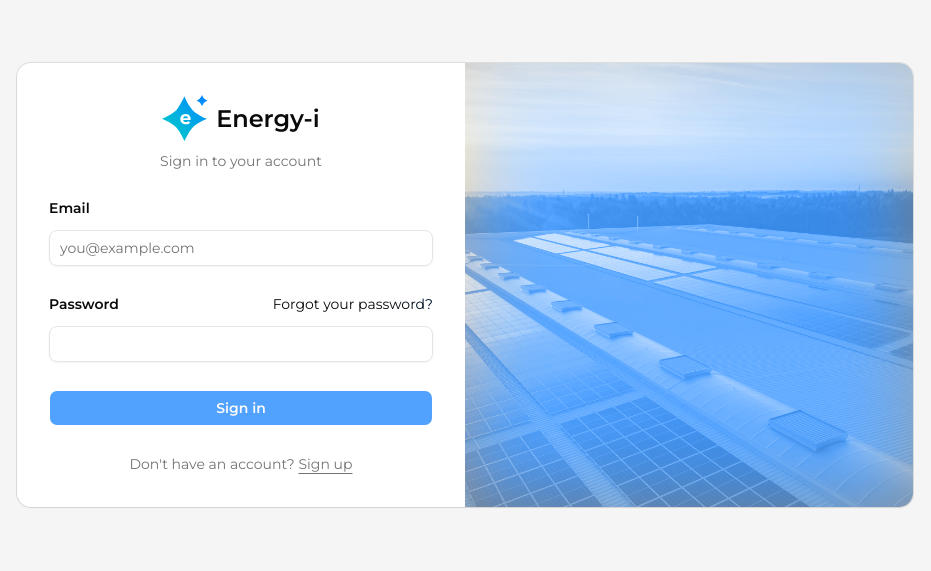
it: Sign In › shows an error with invalid credentials
Step 1. Type "wrong@example.com" into the field with id "email" → point(241, 248), box [49,230,433,266]
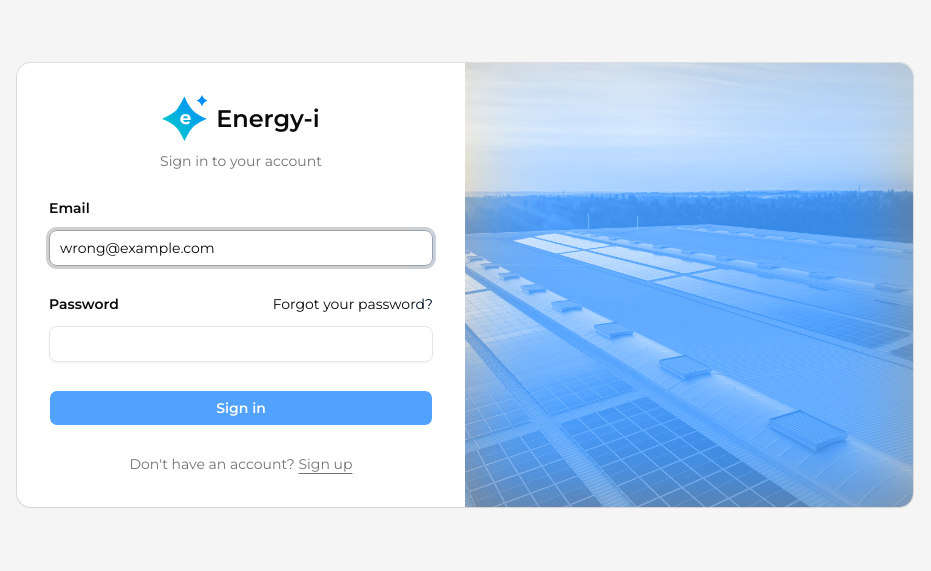
Step 2. Type "wrongpassword" into the password field labelled "Password" → point(241, 344), box [49,326,433,362]
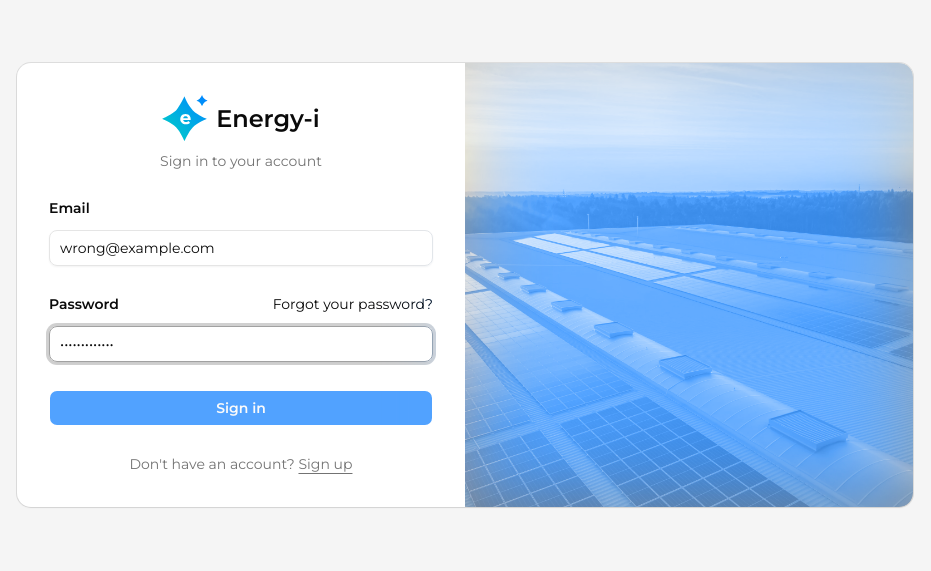
Step 3. Click the submit button → point(241, 408), box [49,390,433,426]
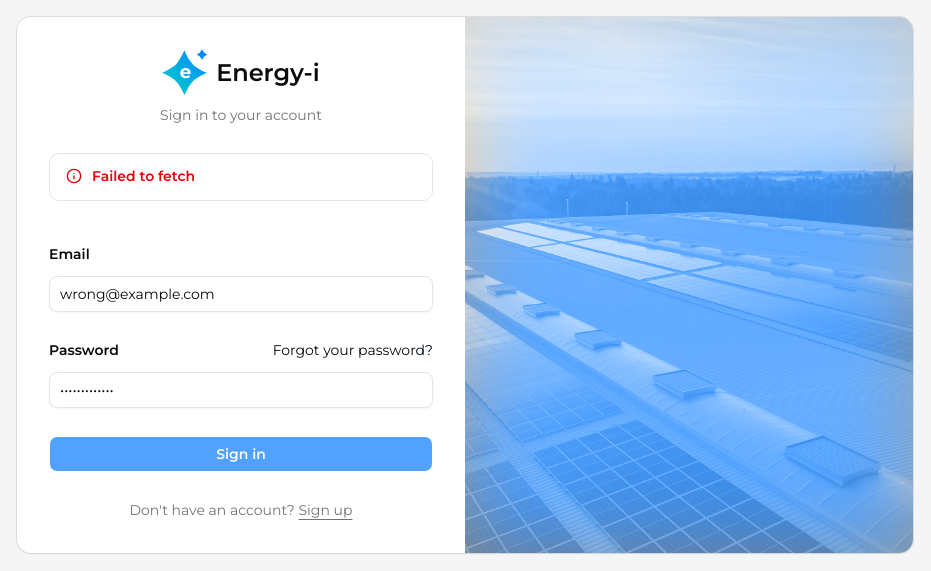
Check: the message "Failed to fetch" is shown, box [49,153,433,201]
